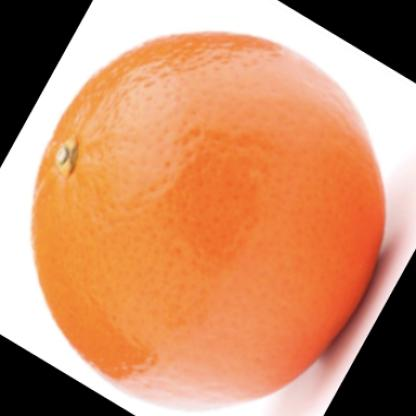fresh: (36, 32, 386, 415)
